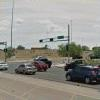Car: (56, 59, 100, 90)
